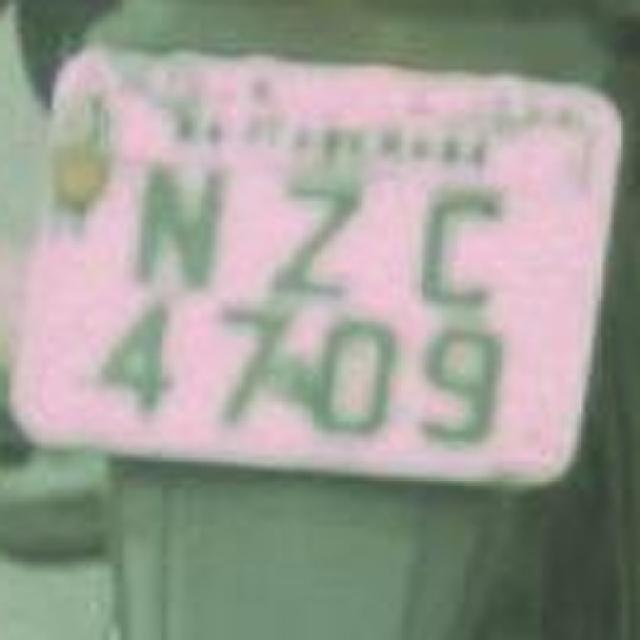0: (292, 304, 408, 436)
4: (72, 280, 208, 448)
7: (191, 305, 304, 440)
9: (396, 288, 524, 448)
C: (388, 164, 508, 291)
N: (104, 148, 236, 300)
Z: (236, 156, 376, 296)
